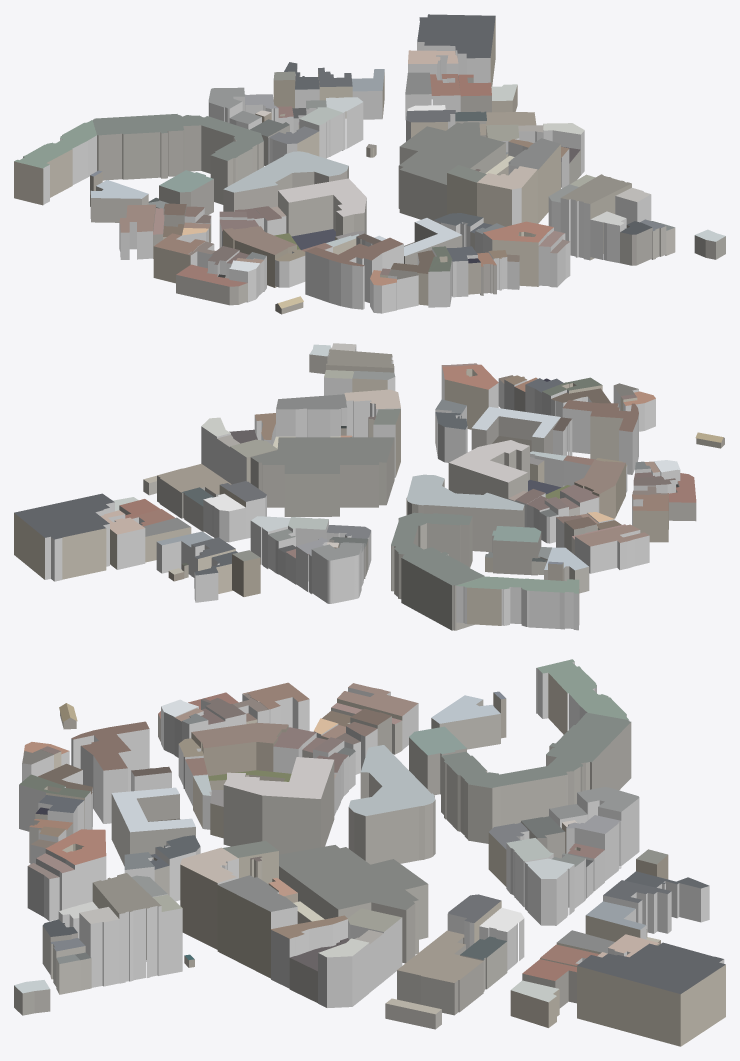
3 views of the same model, one above another, from view 1: azimuth 30°, elevation 25°; view 2: azimuth 150°, elevation 25°; view 3: azimuth 270°, elevation 25° (orthographic). The views are drawn at different scales.
Visible parts, largest first — view 1: tuile; view 2: tuile; view 3: tuile.
Part boxes in pixels (x1,y1,x2,y2): tuile: (14,14,725,314); tuile: (14,343,724,630); tuile: (14,659,725,1046).
Bounding box in the file's own units: 295 × 35.33 × 280.
